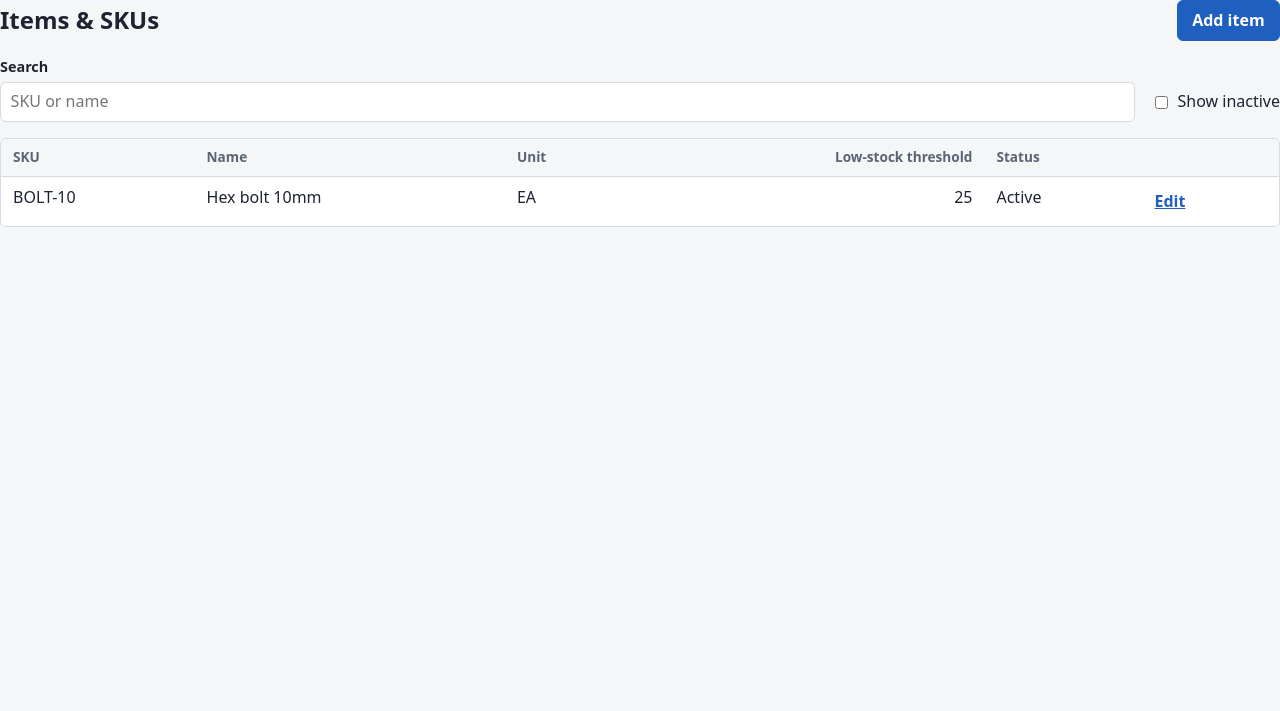
Scenario: ItemsPage › Add item form › shows server field errors under the matching field
The image size is (1280, 711).
Expected: the text "BOLT-10" is shown, [1, 176, 195, 226]
Click the button "Add item". click: (1228, 21)
box: [1177, 0, 1279, 41]
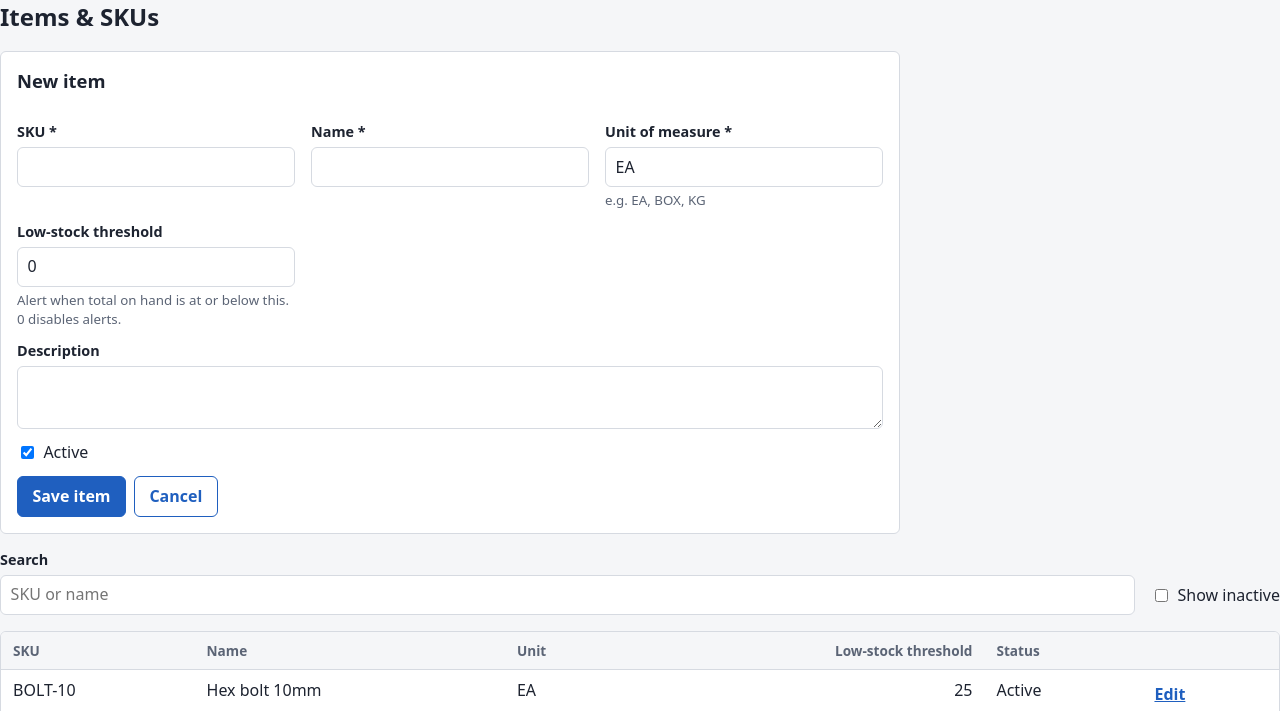
Now the heading "New item" is shown, box [17, 68, 106, 93]
Type "NUT-5" into the field labelled "SKU *". click: (156, 167)
box: [17, 147, 295, 187]
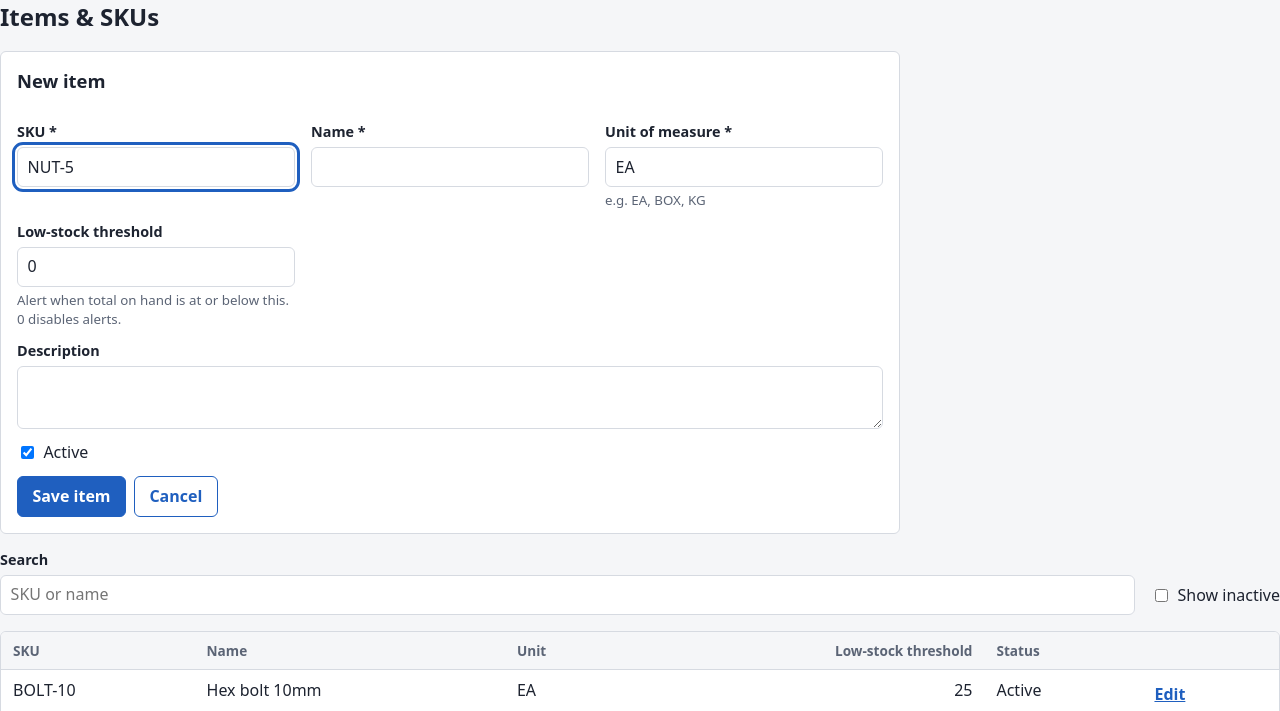
Type "Nut" into the field labelled "Name *". click: (450, 167)
box: [311, 147, 589, 187]
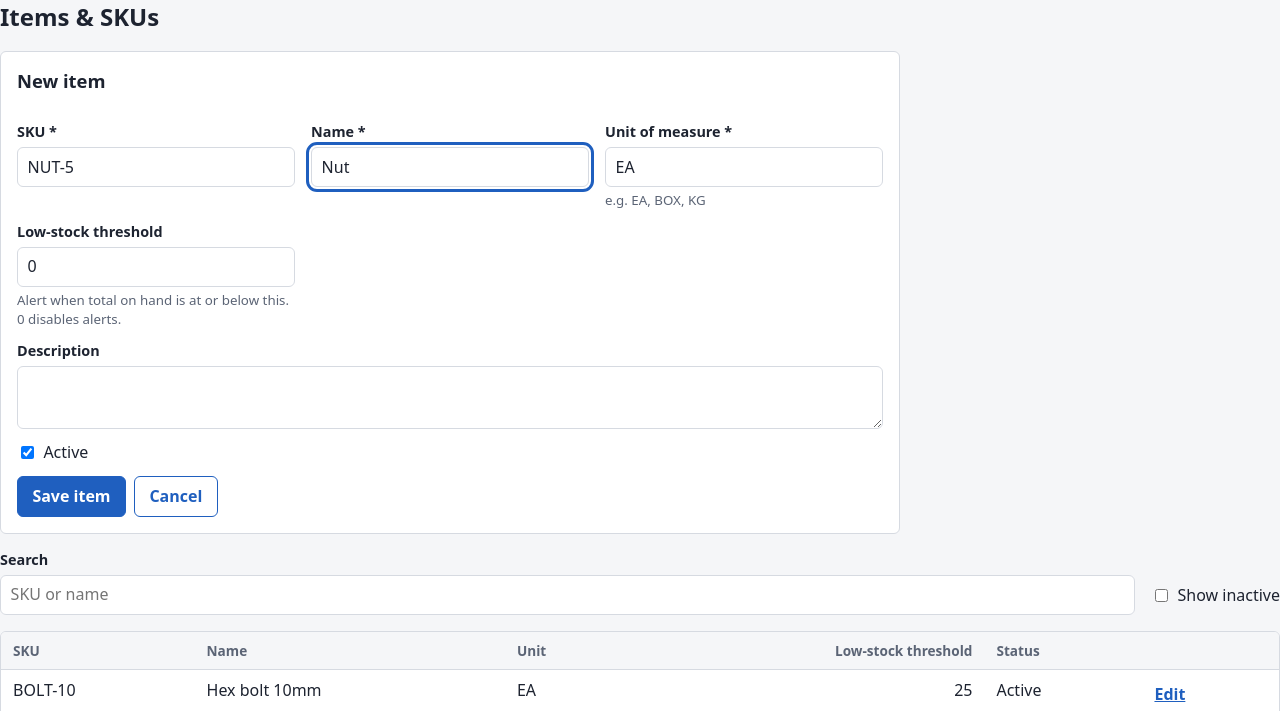
Click the button "Save item". click: (72, 497)
box: [17, 476, 126, 517]
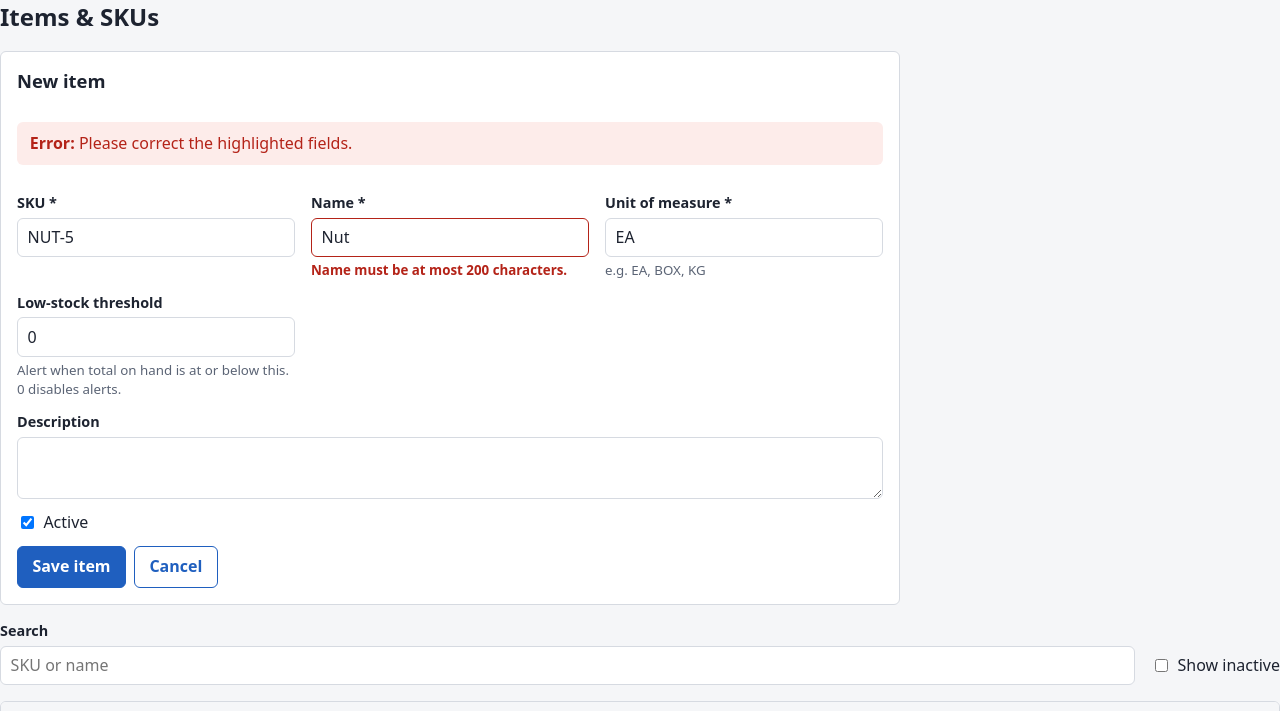
Now the text "Name must be at most 200 characters." is shown, box [311, 261, 589, 281]
Now the message shows "Please correct the highlighted fields.", box [79, 132, 352, 154]
